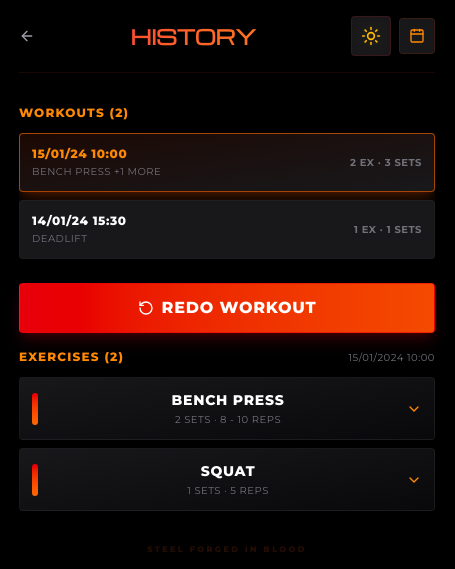
Scenario: HistoryPage › selects workout when date is clicked
Click the text "14/01/24 15:30" at (79,220), box [32, 213, 127, 228]
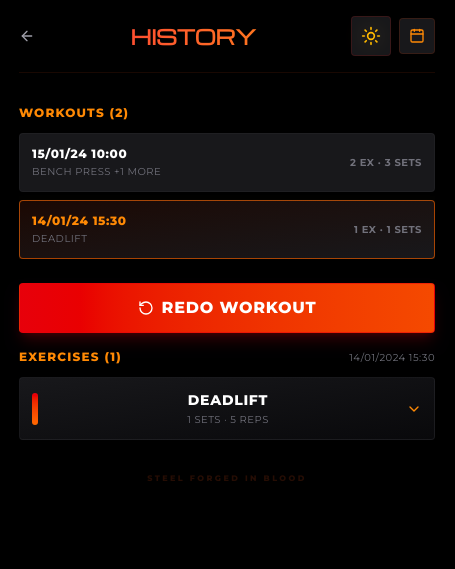
expect the 1st text "Deadlift" is shown: met, box [32, 232, 87, 245]
expect the text "Deadlift" is shown 2 times: met, box [32, 232, 87, 245]; [188, 391, 268, 409]
